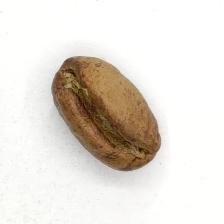NG: (66, 68, 140, 159)
